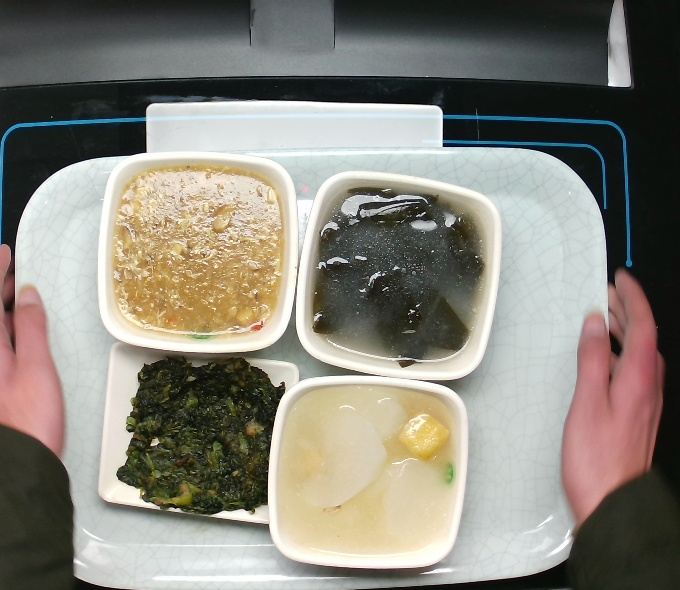wcq-HaiDaiPaiGuTang: (305, 183, 493, 363)
wcq-LuoBoYouPaoTang: (271, 380, 458, 562)
wcq-QinCaiBing: (114, 348, 285, 521)
wcq-SuanLaGeng: (111, 157, 286, 343)
